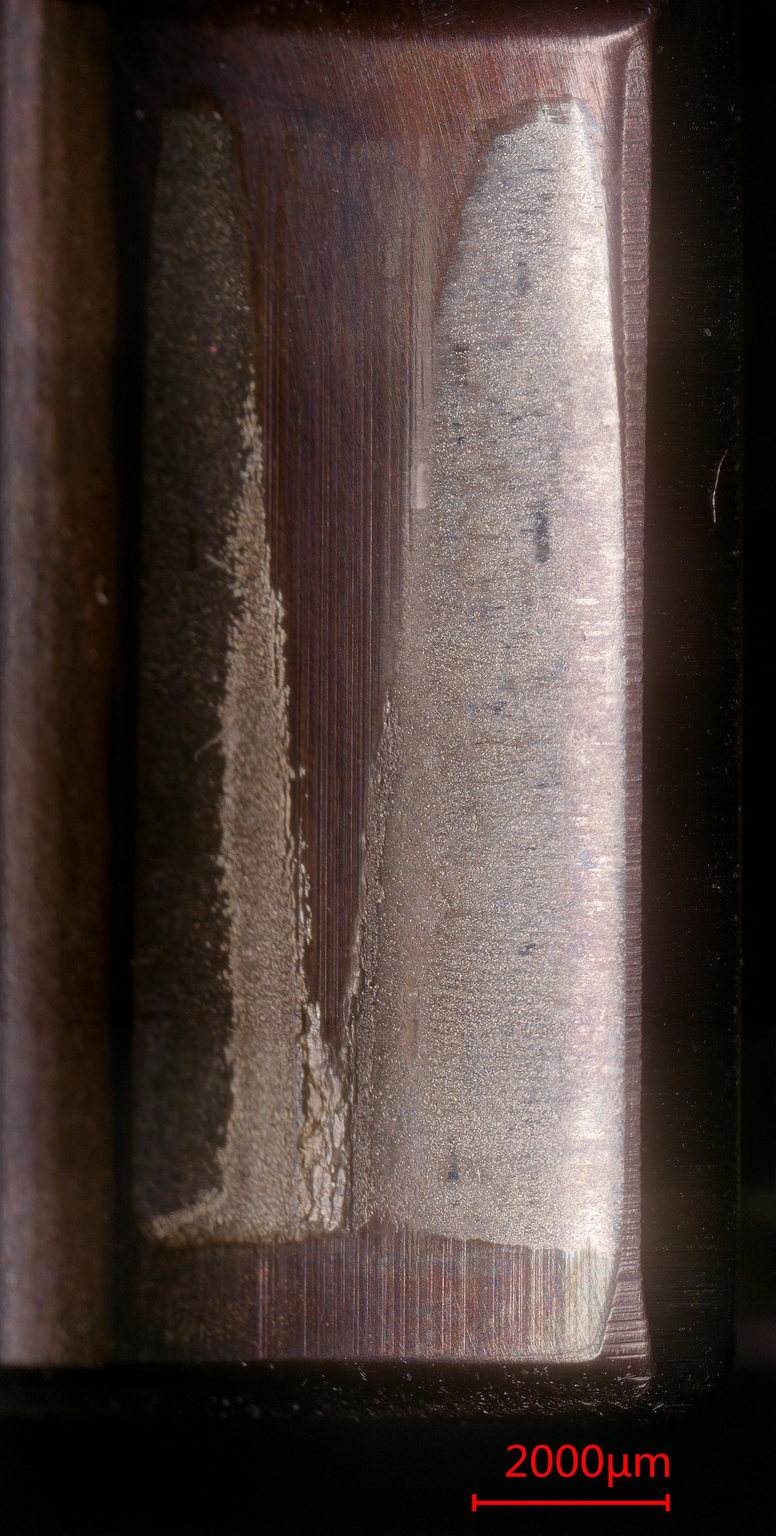Abrasion: (139, 46, 616, 1361)
